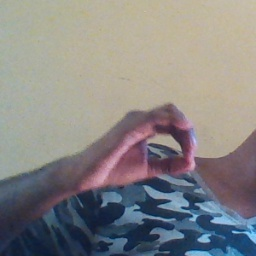O: (78, 100, 203, 195)
